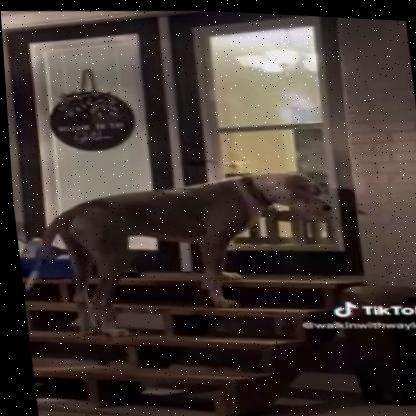dog: (27, 148, 358, 349)
